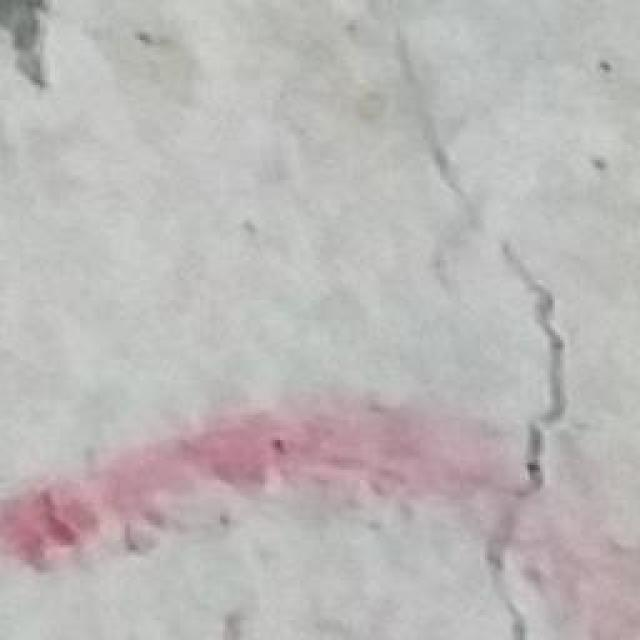Longitudinal: (355, 0, 564, 631)
